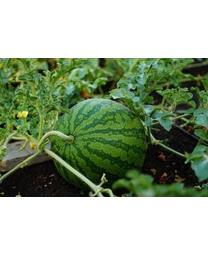watermelon: (50, 99, 147, 185)
